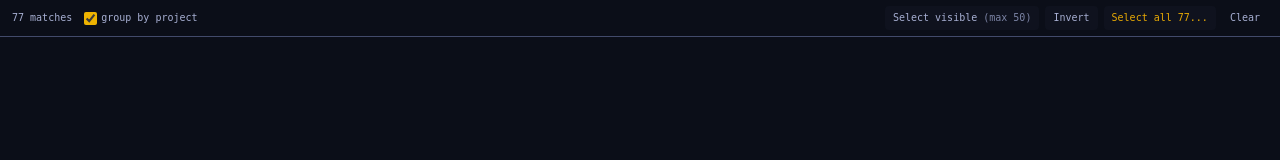
Test: BatchSelectionBar › keeps the confirm folded away until asked for
Expected: the field with placeholder "type \"select 77\"" is not shown
Step 1. Click the button "Select all 77..." → (1160, 18), box [1104,6,1216,30]
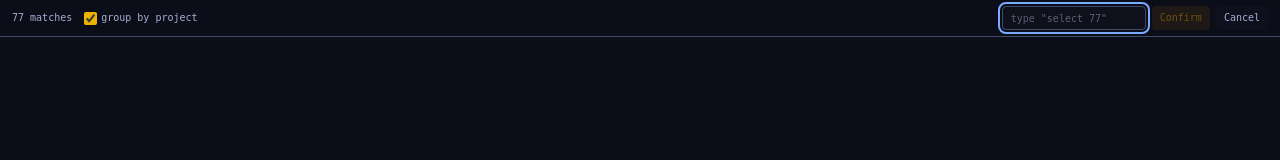
Expected: the field with placeholder "type \"select 77\"" is shown, [1002,6,1146,30]
